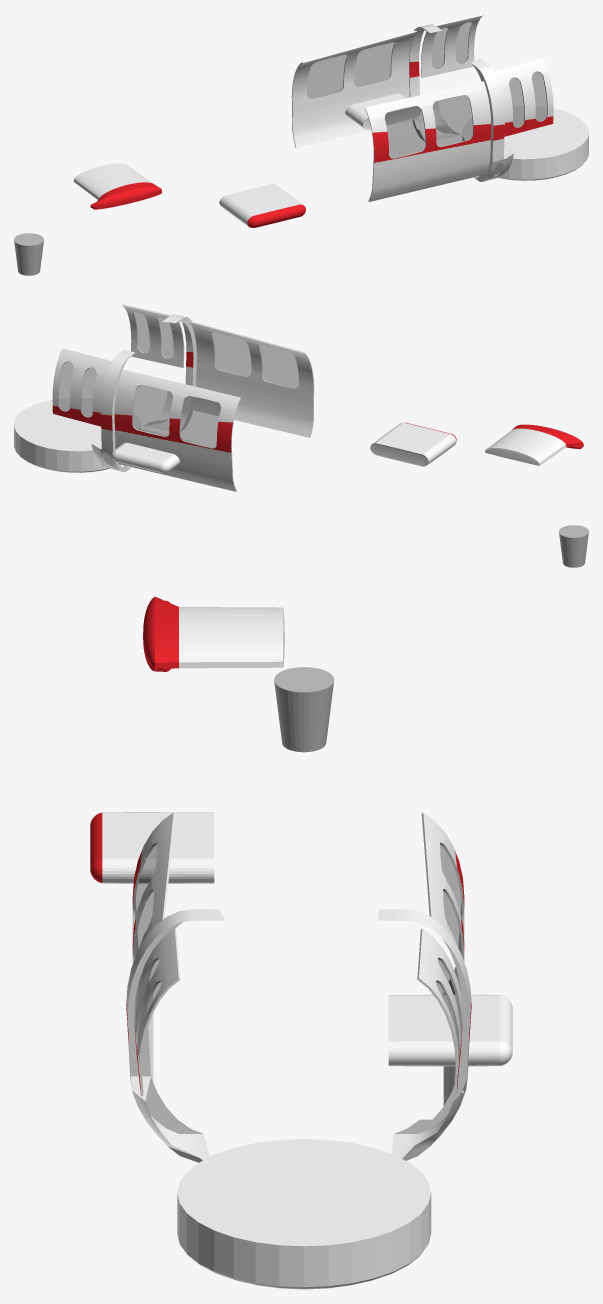
3 renders of one model, top to bottom at view 1: azimuth 30°, elevation 25°; view 2: azimuth 150°, elevation 25°; view 3: azimuth 270°, elevation 25°, orthographic. The views are drawn at different scales.
Parts seen in each view (by area): view 1: Circle.050, 円柱, 球.002, 球.004, 球.001, 円柱.006; view 2: Circle.050, 円柱, 球.004, 球.002, 球.001, 円柱.006; view 3: 円柱, Circle.050, 球.002, 球.001, 球.004, 円柱.006.
Part boxes in pixels (<box>): Circle.050: <box>291,14,553,201</box>; 円柱: <box>462,105,588,180</box>; 球.002: <box>73,163,161,209</box>; 球.004: <box>219,184,305,227</box>; 球.001: <box>345,93,421,129</box>; 円柱.006: <box>14,233,43,275</box>; Circle.050: <box>52,304,314,491</box>; 円柱: <box>14,397,140,472</box>; 球.004: <box>370,422,456,466</box>; 球.002: <box>485,424,583,465</box>; 球.001: <box>111,429,195,473</box>; 円柱.006: <box>559,525,588,567</box>; 円柱: <box>177,1139,431,1289</box>; Circle.050: <box>126,812,471,1162</box>; 球.002: <box>143,596,284,671</box>; 球.001: <box>388,994,512,1066</box>; 球.004: <box>90,812,214,883</box>; 円柱.006: <box>274,667,334,752</box>.
Bounding box in the file's own units: 8.26 × 1.81 × 2.68.
Materials: 12 (3 with a texture image).
